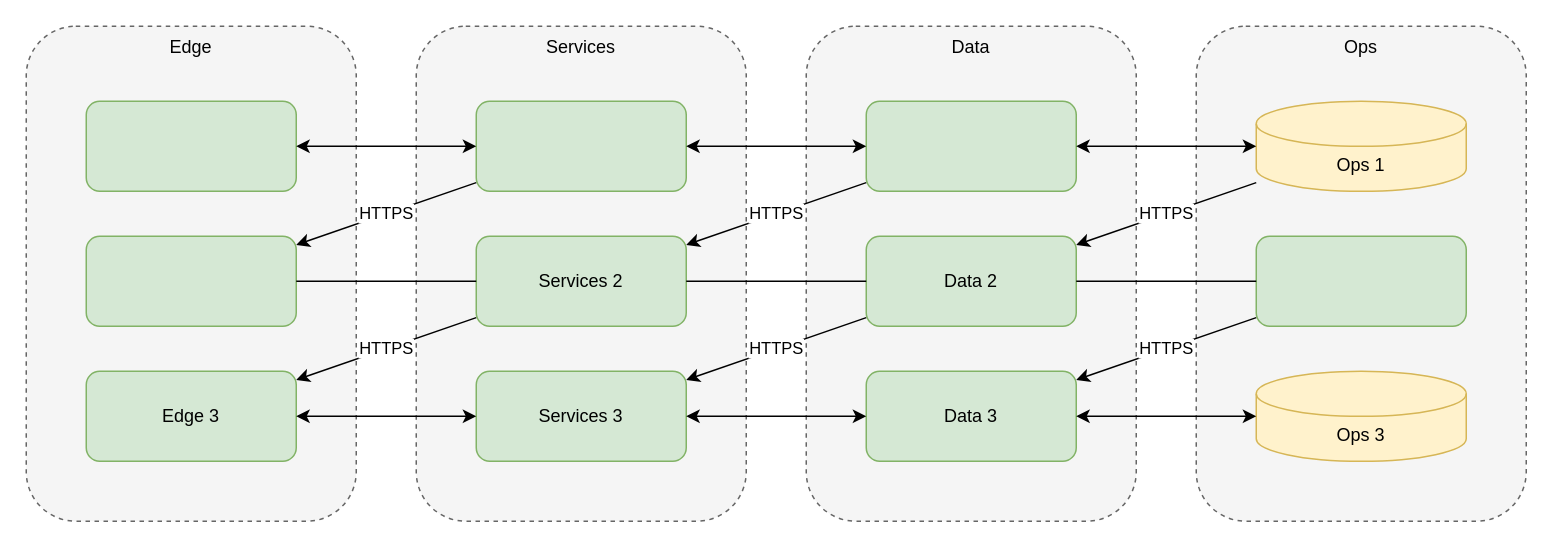
The diagram is 1553 pixels wide and 548 high, and some of its shapes have lost their labels. The shapes that lost their labels are listed below. From the top down, each one's box as (x1, y1, x2, y2) in pixels, then its label:
(85, 100, 296, 191): Edge 1
(475, 100, 686, 191): Services 1
(865, 100, 1076, 191): Data 1
(85, 235, 296, 326): Edge 2
(1255, 235, 1466, 326): Ops 2
